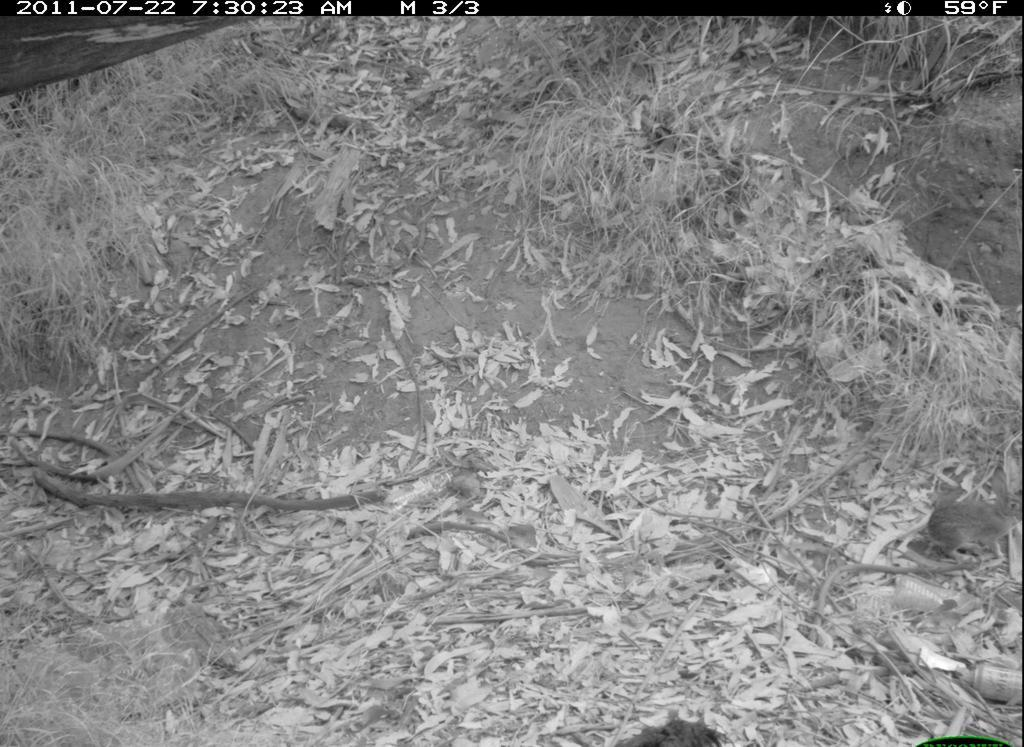rabbit: (921, 463, 1023, 564)
